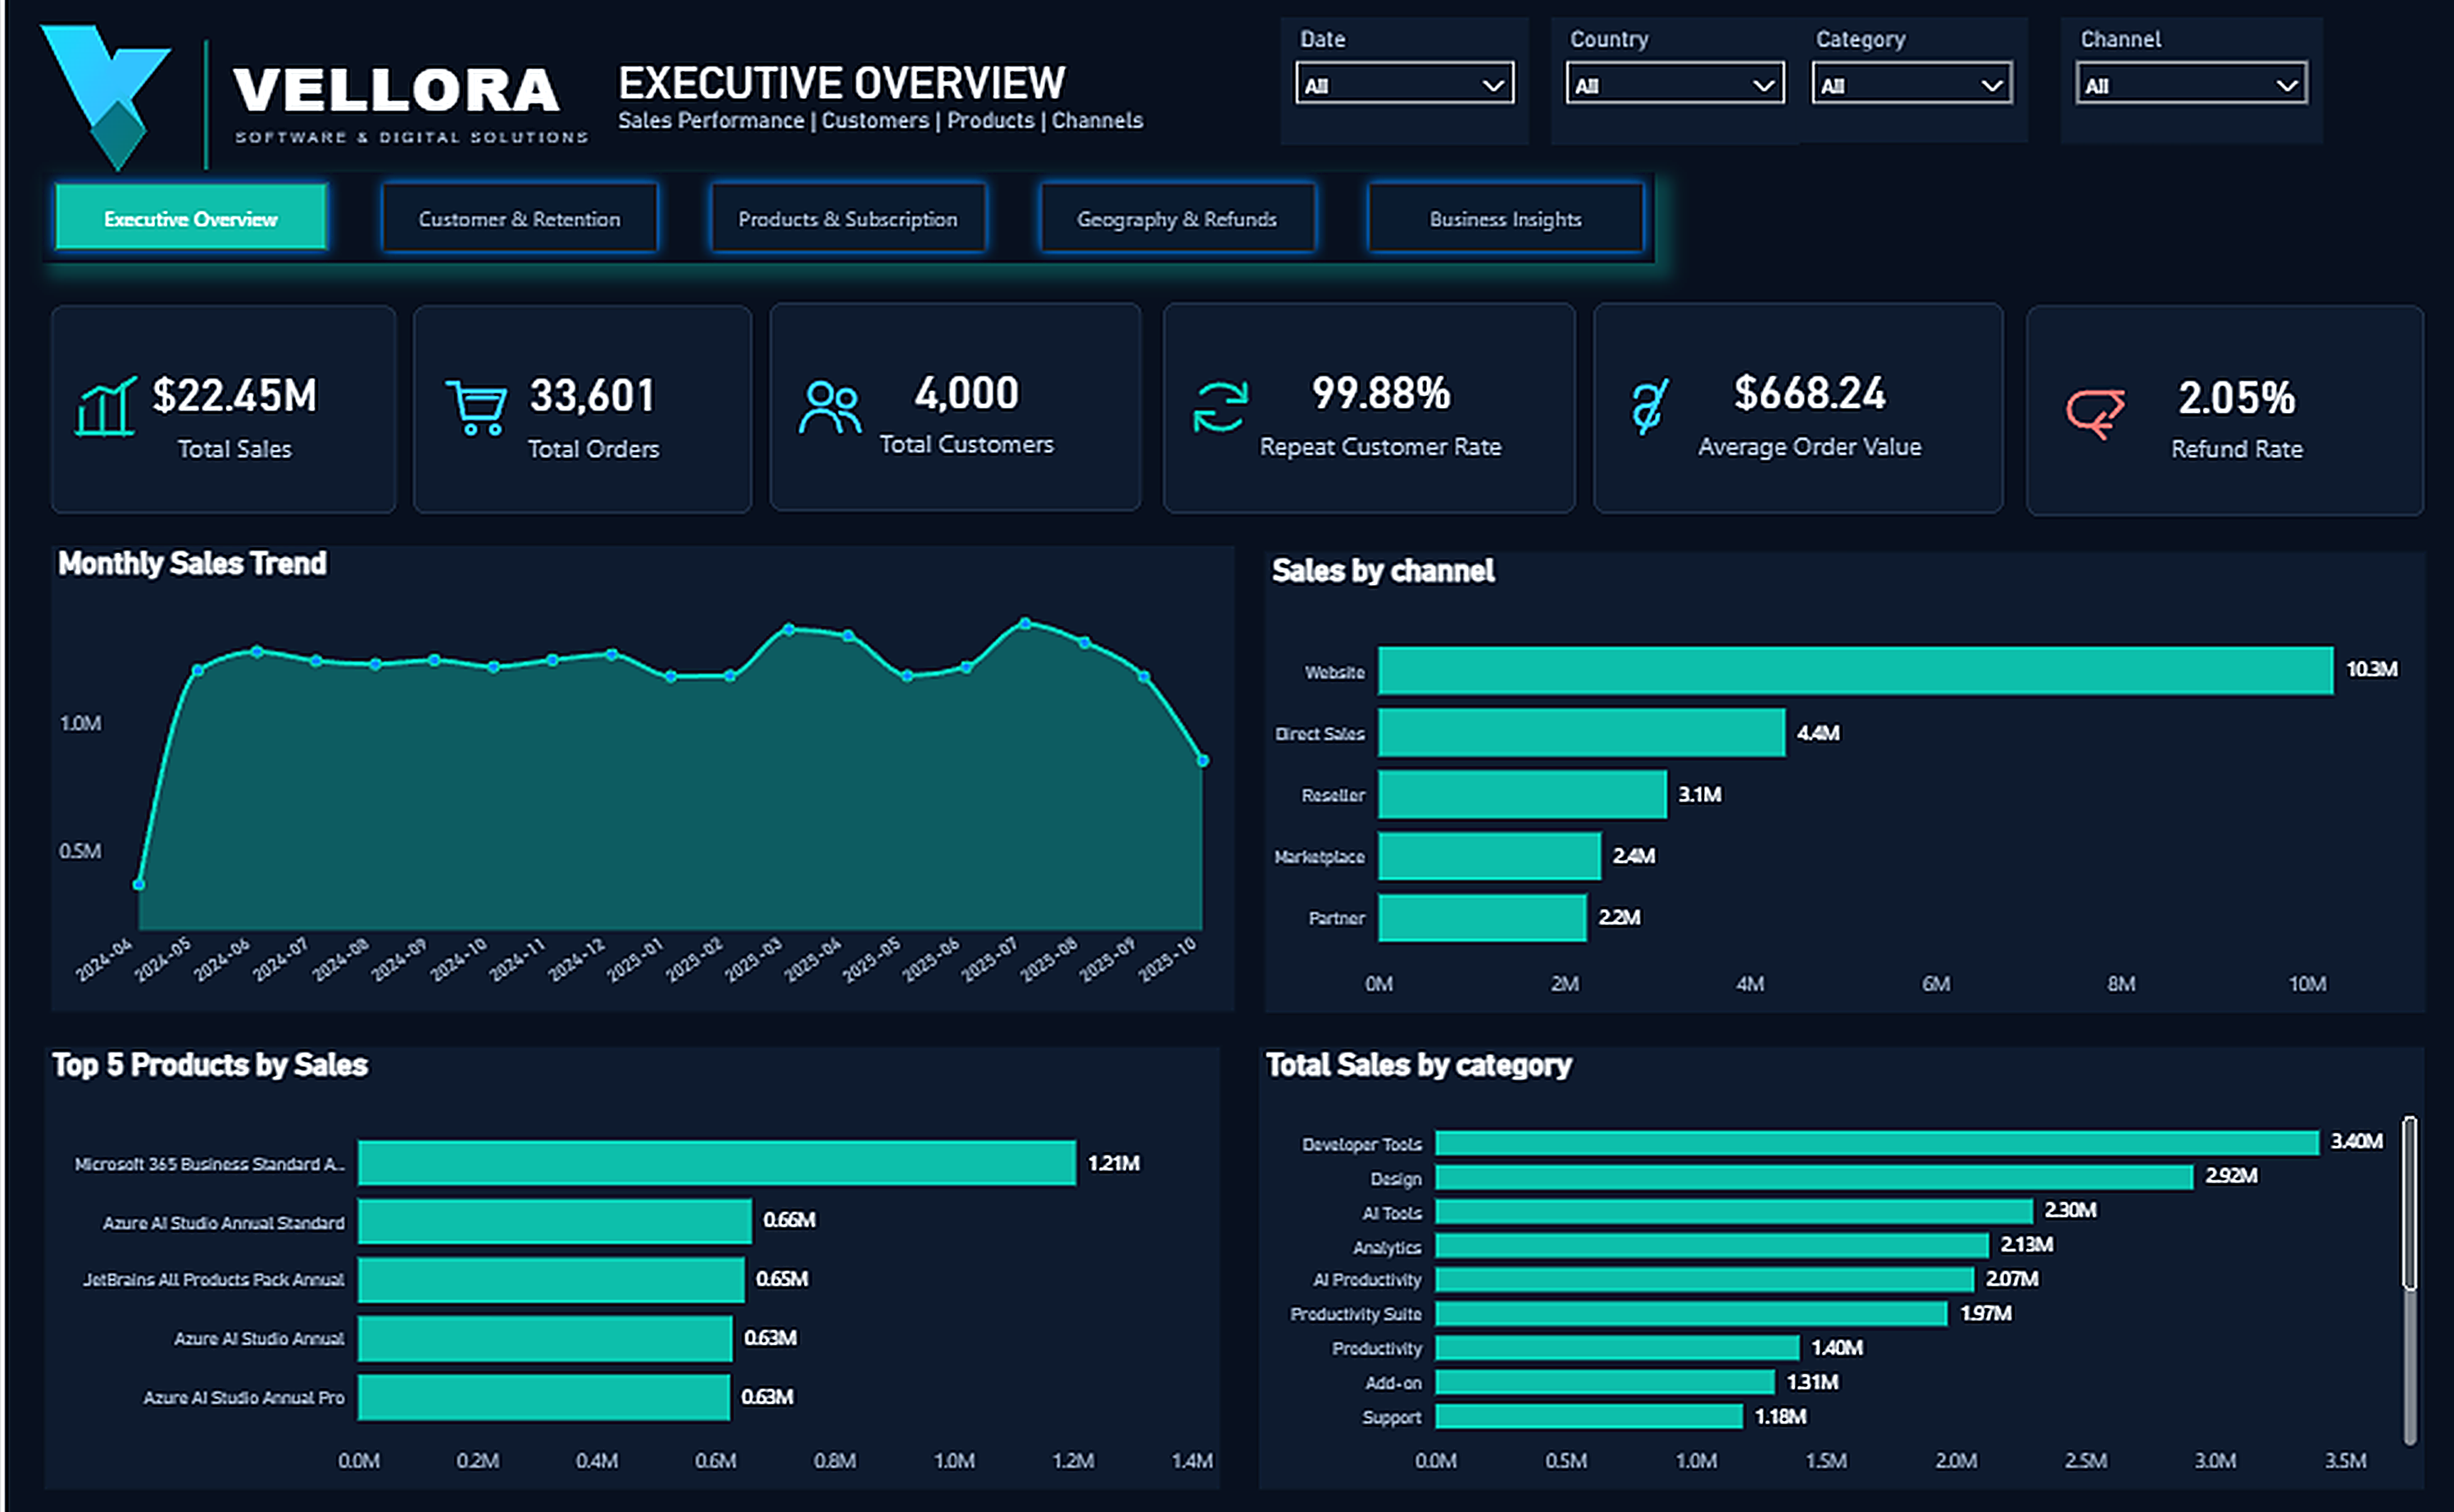

The page's visual inventory and layout, read from the dashboard file:
{"tool":"powerbi","page":{"name":"Executive Overview","canvas":[1600,1000],"ordinal":0},"visuals":[{"type":"card","fields":{"Values":["_Measures.Total Orders"]},"box":[266.7,203.3,220,135],"z":0},{"type":"card","fields":{"Values":["_Measures.Total Sales"]},"box":[30,203.3,225,135],"z":1000},{"type":"card","fields":{"Values":["_Measures.Total Customers"]},"box":[498.3,201.7,241.7,135],"z":2000},{"type":"card","fields":{"Values":["_Measures.Repeat Customer Rate"]},"box":[753.3,201.7,268.3,136.7],"z":3000},{"type":"card","fields":{"Values":["_Measures.Refund Rate"]},"box":[1316.7,203.3,258.3,136.7],"z":4000},{"type":"card","fields":{"Values":["_Measures.Average Order Value"]},"box":[1033.3,201.7,266.7,136.7],"z":5000},{"type":"lineChart","title":"Monthly Sales Trend","fields":{"Y":["_Measures.Total Sales"],"Category":["Dim_Date.Year Month"]},"box":[30,360,770,303.3],"z":6000},{"type":"clusteredBarChart","title":"Sales by channel","fields":{"Y":["_Measures.Total Sales"],"Category":["Events_updated.channel"]},"box":[820,363.3,755,300],"z":7000},{"type":"clusteredBarChart","fields":{"Category":["Products_final__3.category"],"Y":["_Measures.Total Sales"]},"box":[816.7,686.7,758.3,288.3],"z":8000},{"type":"clusteredBarChart","title":"Top 5 Products by Sales","fields":{"Category":["Products_final__3.product_name"],"Y":["_Measures.Total Sales"]},"box":[26.7,686.7,765,288.3],"z":9000},{"type":"slicer","fields":{"Values":["Dim_Date.Date"]},"box":[830.3,17,161.7,83.3],"z":10000},{"type":"slicer","fields":{"Values":["Events_updated.country"]},"box":[1005.3,15.3,161.7,83.3],"z":11000},{"type":"slicer","title":"Channel","fields":{"Values":["Events_updated.channel"]},"box":[1338.7,17,170,82.5],"z":12000},{"type":"slicer","fields":{"Values":["Products_final__3.category"]},"box":[1167,17,150,81.7],"z":13000},{"type":"image","box":[0,0,468.3,146.7],"z":14000},{"type":"textbox","box":[393.3,35,360,75],"z":15000},{"type":"image","box":[41.7,231.7,50,75],"z":16000},{"type":"image","box":[281.7,231.7,50,75],"z":17000},{"type":"image","box":[1335,231.7,50,75],"z":18000},{"type":"image","box":[1048.3,231.7,50,75],"z":19000},{"type":"image","box":[766.7,231.7,50,75],"z":20000},{"type":"image","box":[511.7,231.7,50,75],"z":21000},{"type":"pageNavigator","box":[23.3,116.7,1050,60],"z":21001}]}

Visuals, with their boxes in screenshot pixels (x1, y1, x2, y2), scaled from the page's 1600x1000 canvas onto the 2454x1512 screenshot:
card - _Measures.Total Orders: {"x1": 409, "y1": 307, "x2": 747, "y2": 511}
card - _Measures.Total Sales: {"x1": 46, "y1": 307, "x2": 391, "y2": 511}
card - _Measures.Total Customers: {"x1": 764, "y1": 305, "x2": 1135, "y2": 509}
card - _Measures.Repeat Customer Rate: {"x1": 1156, "y1": 305, "x2": 1567, "y2": 511}
card - _Measures.Refund Rate: {"x1": 2020, "y1": 307, "x2": 2415, "y2": 514}
card - _Measures.Average Order Value: {"x1": 1585, "y1": 305, "x2": 1994, "y2": 511}
"Monthly Sales Trend" lineChart: {"x1": 46, "y1": 544, "x2": 1227, "y2": 1003}
"Sales by channel" clusteredBarChart: {"x1": 1257, "y1": 549, "x2": 2415, "y2": 1003}
clusteredBarChart - Products_final__3.category x _Measures.Total Sales: {"x1": 1252, "y1": 1038, "x2": 2415, "y2": 1474}
"Top 5 Products by Sales" clusteredBarChart: {"x1": 41, "y1": 1038, "x2": 1214, "y2": 1474}
slicer - Dim_Date.Date: {"x1": 1274, "y1": 25, "x2": 1521, "y2": 152}
slicer - Events_updated.country: {"x1": 1542, "y1": 23, "x2": 1790, "y2": 149}
"Channel" slicer: {"x1": 2053, "y1": 25, "x2": 2314, "y2": 151}
slicer - Products_final__3.category: {"x1": 1790, "y1": 25, "x2": 2020, "y2": 149}
image: {"x1": 0, "y1": 0, "x2": 718, "y2": 222}
textbox: {"x1": 603, "y1": 53, "x2": 1156, "y2": 166}
image: {"x1": 64, "y1": 350, "x2": 141, "y2": 464}
image: {"x1": 432, "y1": 350, "x2": 509, "y2": 464}
image: {"x1": 2047, "y1": 350, "x2": 2125, "y2": 464}
image: {"x1": 1608, "y1": 350, "x2": 1684, "y2": 464}
image: {"x1": 1176, "y1": 350, "x2": 1252, "y2": 464}
image: {"x1": 785, "y1": 350, "x2": 861, "y2": 464}
pageNavigator: {"x1": 36, "y1": 176, "x2": 1646, "y2": 267}
